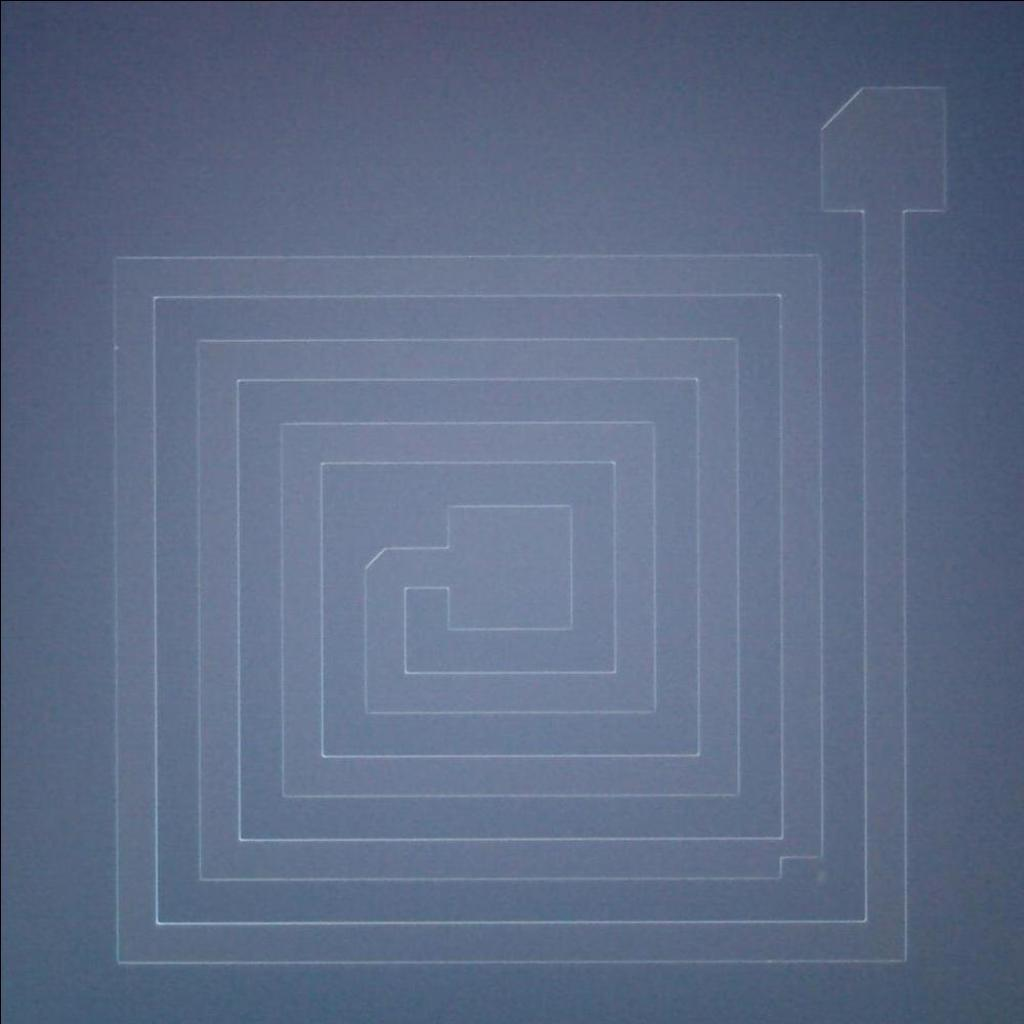edge circuit: (807, 73, 864, 135), (761, 843, 829, 888), (358, 538, 392, 575)
